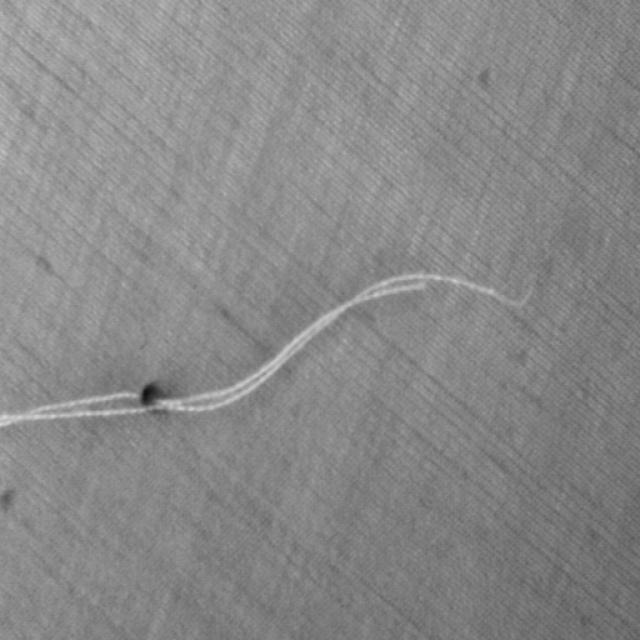objects: (0, 258, 540, 432)
